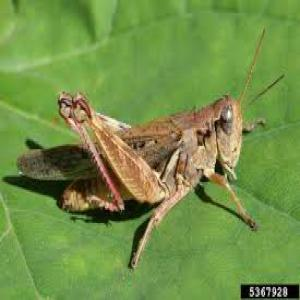locust: (26, 67, 264, 259)
